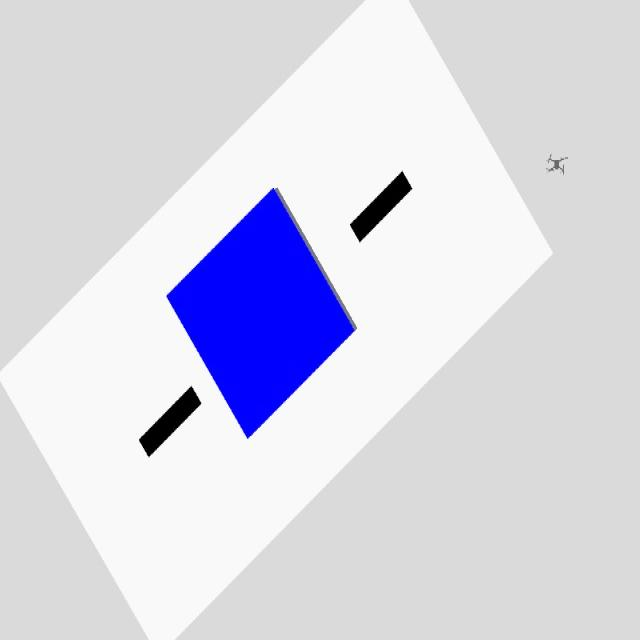blue_square: (165, 186, 357, 441)
